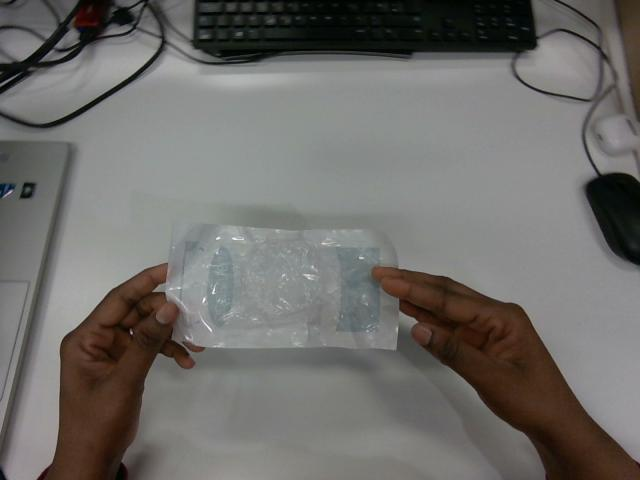gallipot: (166, 222, 397, 348)
